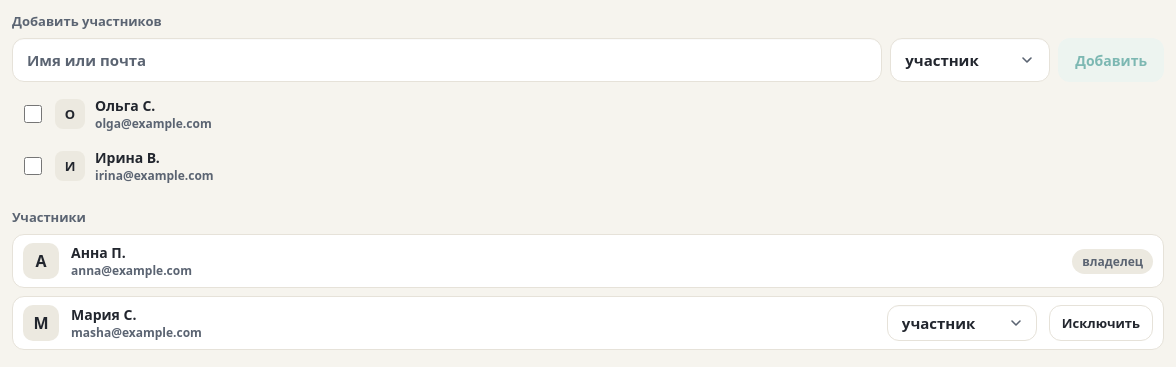
Scenario: TeamMembersTab › в кандидатах только те, кого нет в группе; поиск по имени и почте
Type "волк" into the search field labelled "Добавить участников" at coordinates (447, 60), box x1=12 y1=38 x2=882 y2=82
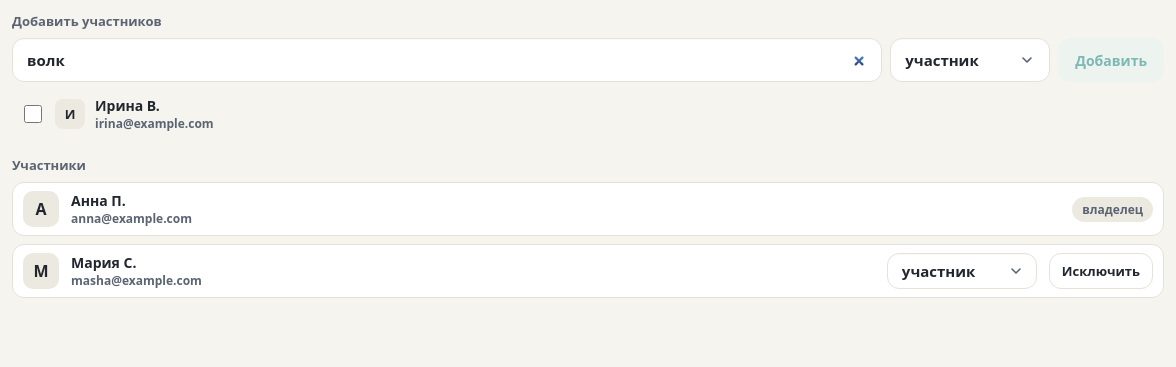
Replace the text in the search field labelled "Добавить участников" with "olga@" at coordinates (447, 60), box x1=12 y1=38 x2=882 y2=82
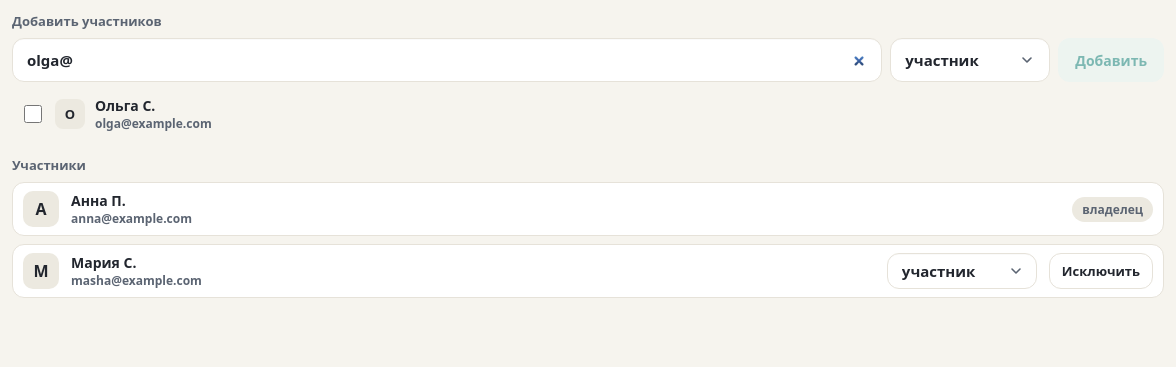
Expected: the text "olga@example.com" is shown, x1=95 y1=115 x2=212 y2=132
